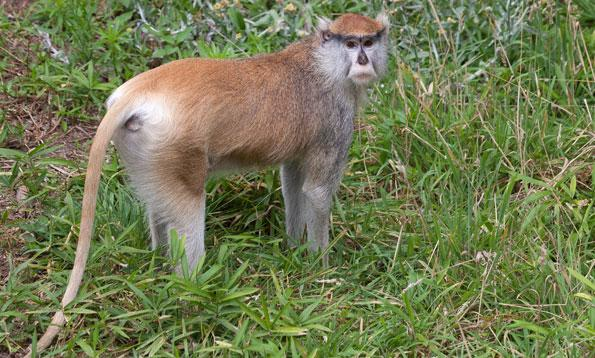monkey: (62, 13, 390, 305)
